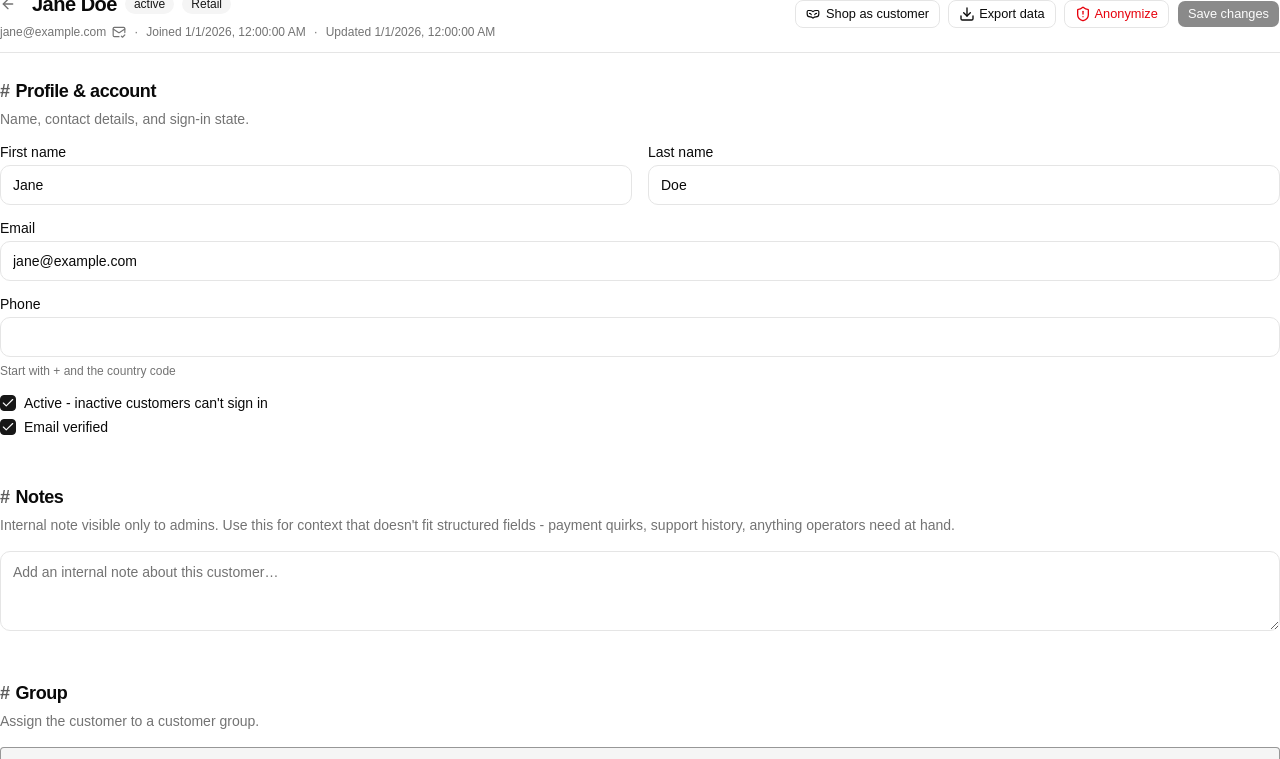
Test: CustomerDetail › keeps the dialog open on a bad email
Replace the text in the field labelled "Email" with "jane@": (640, 261) [0,241,1279,281]
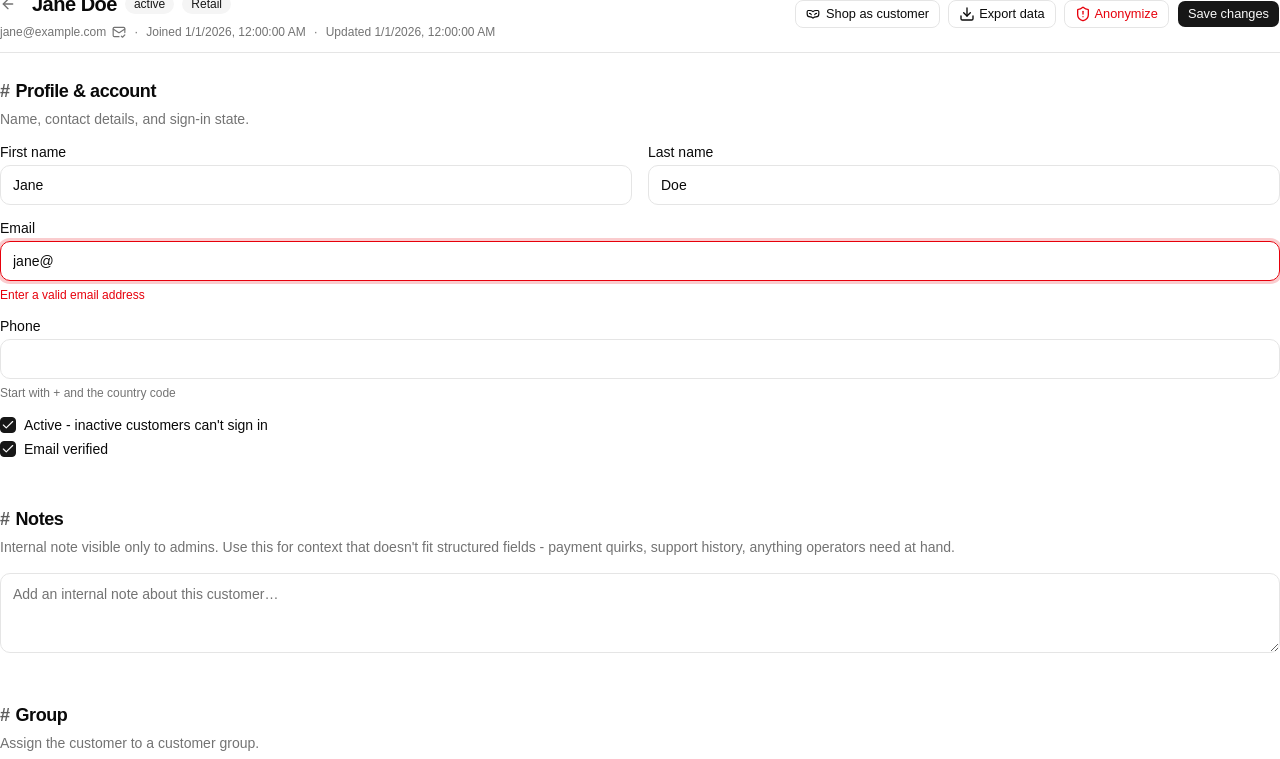
Click the button "Save changes": click(1228, 14) [1177,0,1279,28]
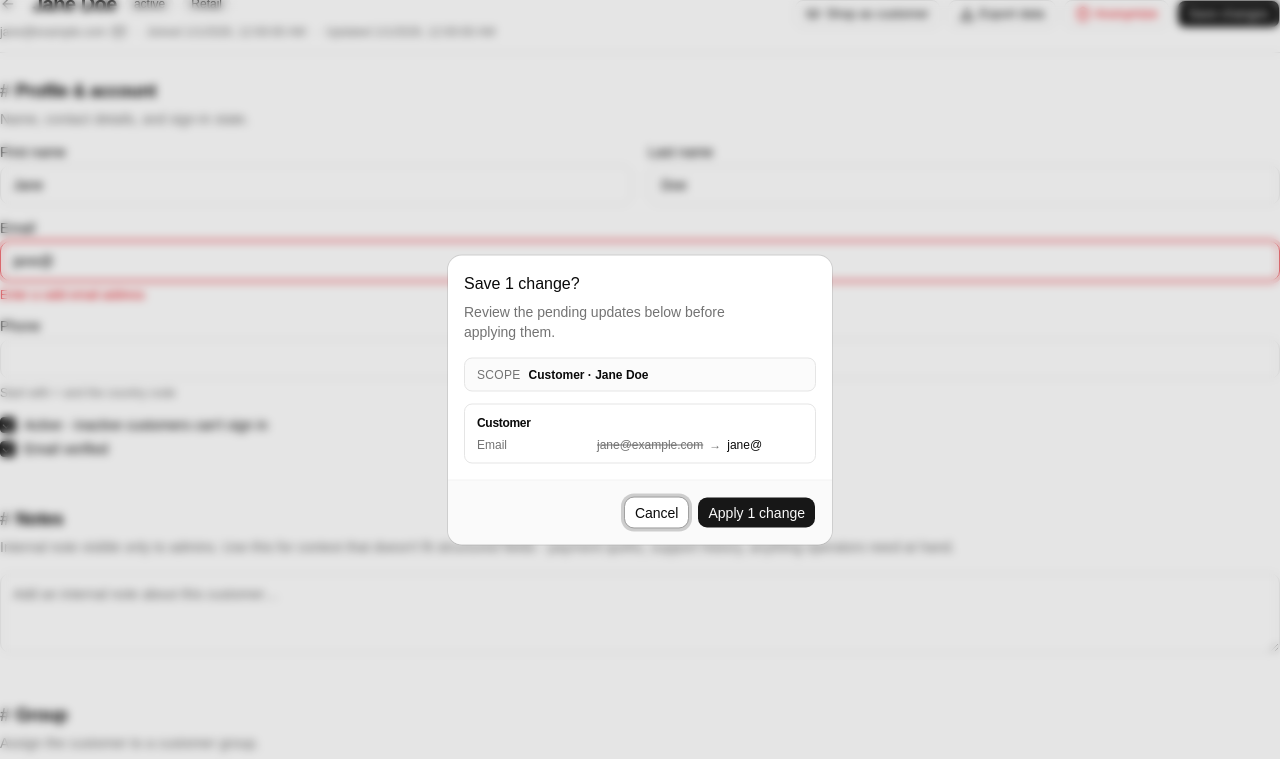
Click the button "Apply 1 change": click(757, 512) [698,496,816,528]
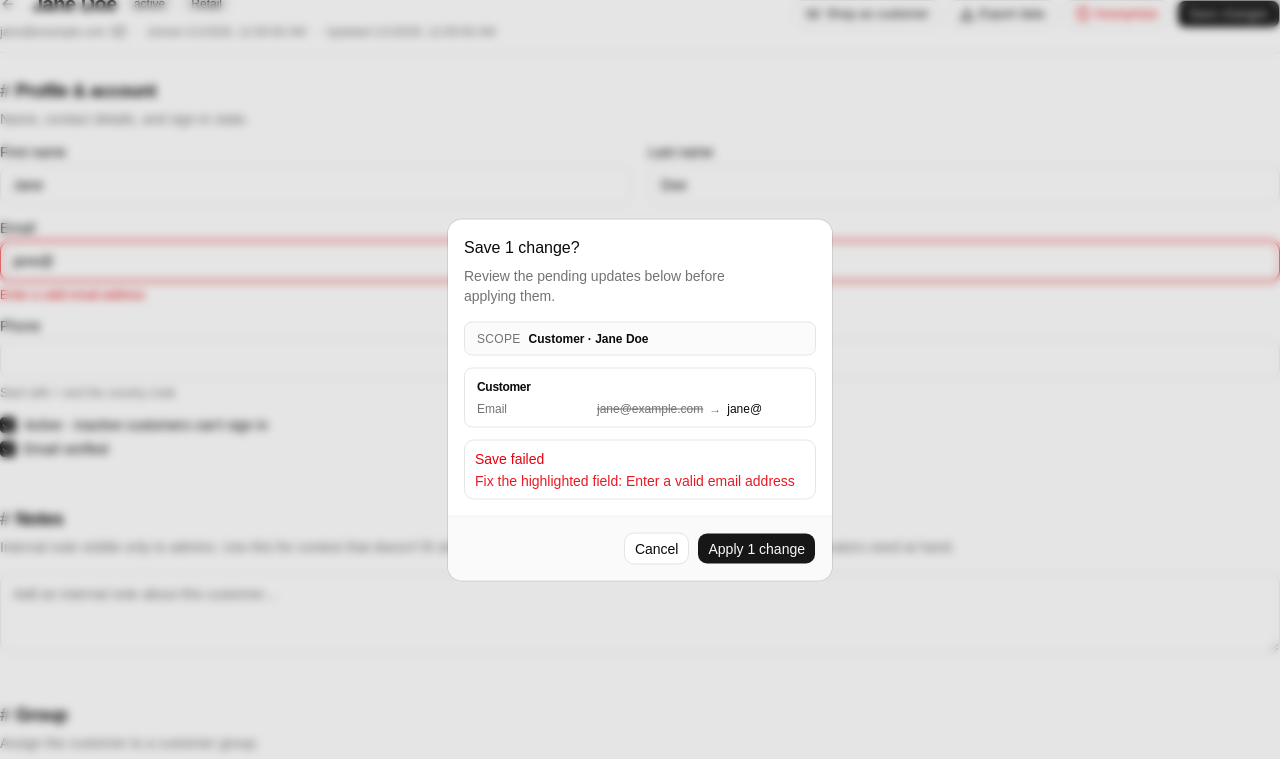
Expected: the text "Fix the highlighted field: Enter a valid email address" is shown, [475,470,805,490]
